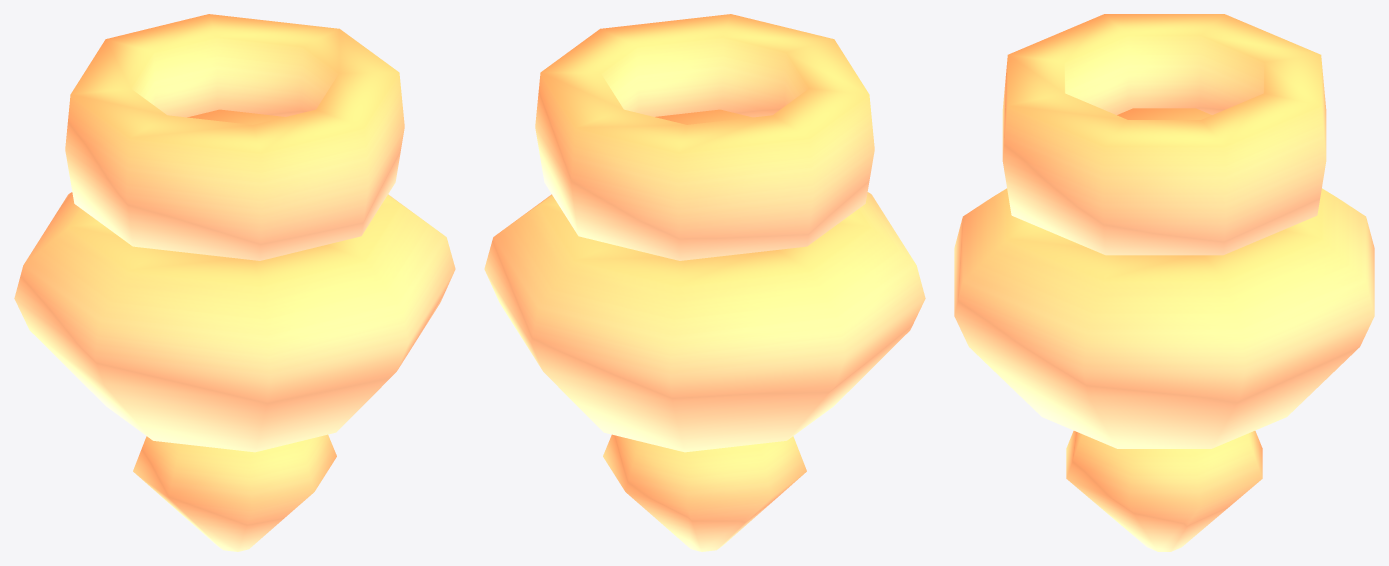
Rendered from wood_pommel_148_004.glb.
3 views of the same model, side by side, from view 1: azimuth 30°, elevation 25°; view 2: azimuth 150°, elevation 25°; view 3: azimuth 270°, elevation 25° (orthographic).
Parts seen in each view (by area): view 1: wood_pommel_148.004; view 2: wood_pommel_148.004; view 3: wood_pommel_148.004.
Part boxes in pixels (x1,y1,x2,y2): wood_pommel_148.004: (14, 14, 455, 551); wood_pommel_148.004: (484, 14, 925, 551); wood_pommel_148.004: (954, 14, 1374, 551).
Bounding box in the file's own units: 2.1 × 2.58 × 2.1.
Materials: 1 (1 with a texture image).
